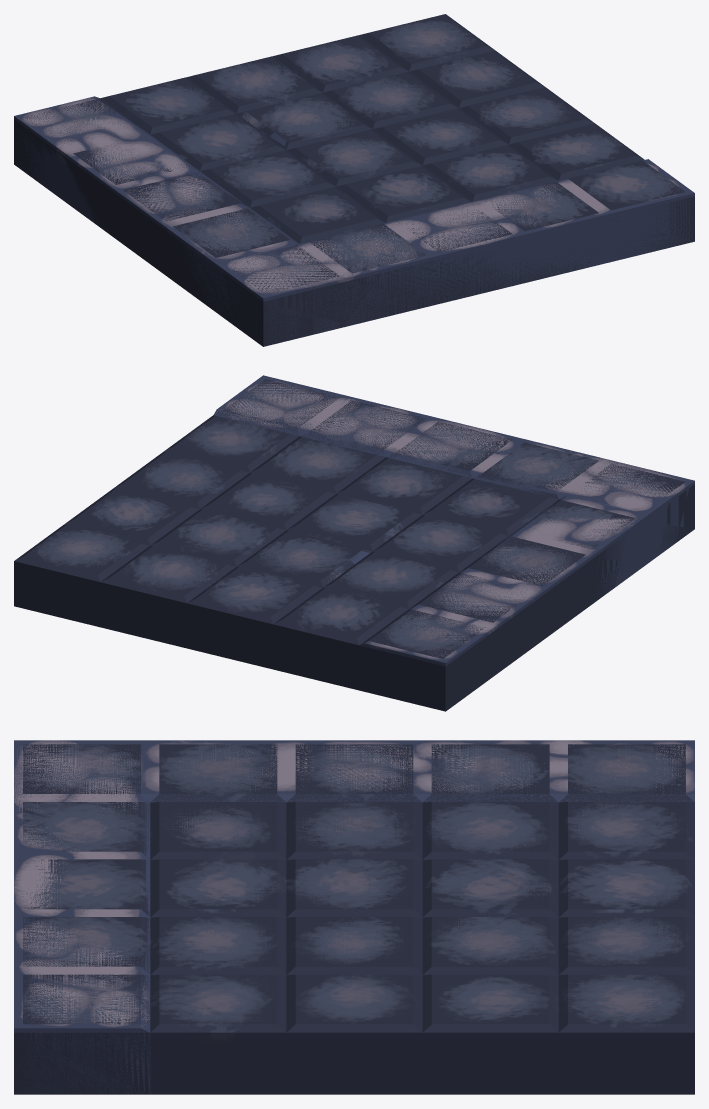
Rendered from AssetPack_FloorTiles.fbx.
3 views of the same model, one above another, from view 1: azimuth 30°, elevation 25°; view 2: azimuth 150°, elevation 25°; view 3: azimuth 270°, elevation 25° (orthographic). The views are drawn at different scales.
Visible parts, largest first — view 1: Floor_Edge_Clean, Floor_Edge_Clean.001, Floor_Edge_Clean.002; view 2: Floor_Edge_Clean, Floor_Edge_Clean.001, Floor_Edge_Clean.002; view 3: Floor_Edge_Clean, Floor_Edge_Clean.001, Floor_Edge_Clean.002.
Part boxes in pixels (box(x1,y1,x2,y2)): Floor_Edge_Clean: box(14, 14, 694, 346); Floor_Edge_Clean.001: box(46, 15, 694, 343); Floor_Edge_Clean.002: box(14, 58, 521, 344); Floor_Edge_Clean: box(14, 379, 694, 711); Floor_Edge_Clean.001: box(14, 375, 694, 709); Floor_Edge_Clean.002: box(171, 377, 691, 686); Floor_Edge_Clean: box(14, 744, 694, 1094); Floor_Edge_Clean.001: box(14, 740, 694, 1092); Floor_Edge_Clean.002: box(14, 740, 694, 1094).
Size of the model in its own units: 200 by 21.48 by 200.
